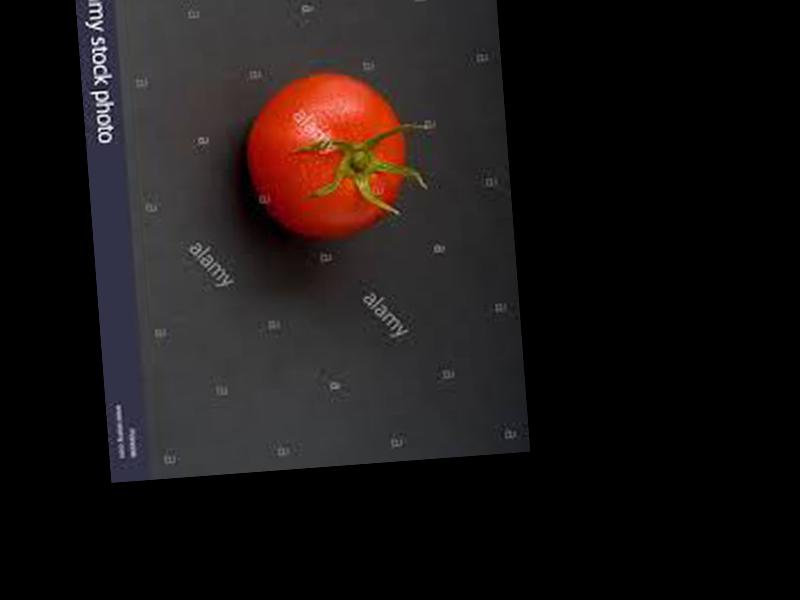Tomato: (247, 67, 412, 244)
